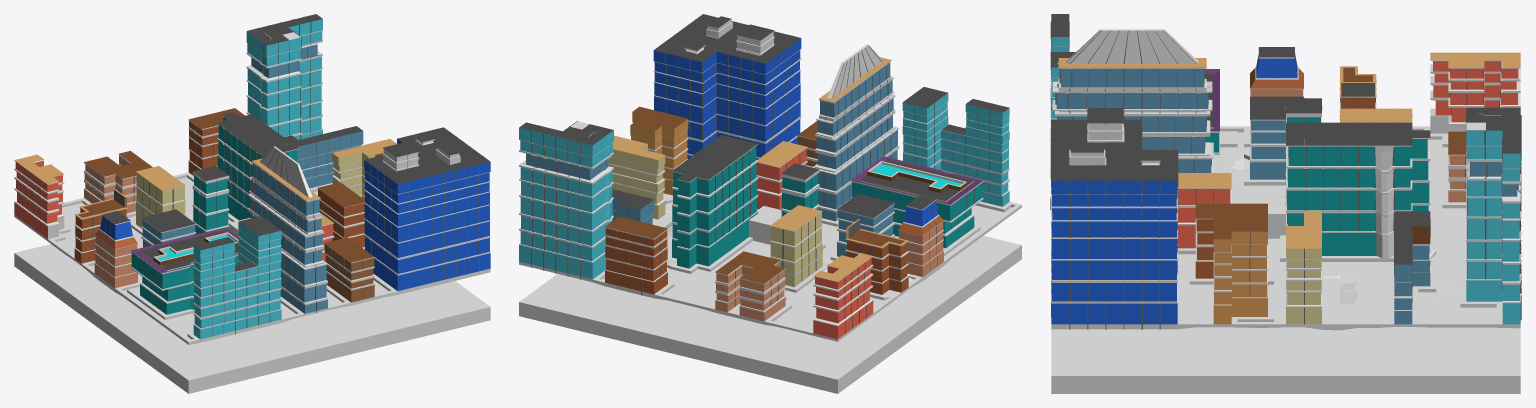
The model's file is CITY20.fbx.
The picture shows the model from 3 angles, left to right: view 1: azimuth 30°, elevation 25°; view 2: azimuth 150°, elevation 25°; view 3: azimuth 270°, elevation 25°; orthographic projection. The views are drawn at different scales.
Parts seen in each view (by area): view 1: Plane, Plane.001; view 2: Plane, Plane.001, Cube; view 3: Plane, Plane.001, Cube.
Boxes of the visible parts, <box> form: Plane: <box>14,14,490,344</box>; Plane.001: <box>14,244,490,393</box>; Plane: <box>519,14,1021,341</box>; Plane.001: <box>519,235,1021,393</box>; Cube: <box>749,206,781,244</box>; Plane: <box>1050,14,1521,330</box>; Plane.001: <box>1051,327,1520,393</box>; Cube: <box>1262,194,1285,238</box>.
Bounding box in the file's own units: 2004 × 1173 × 2010.
